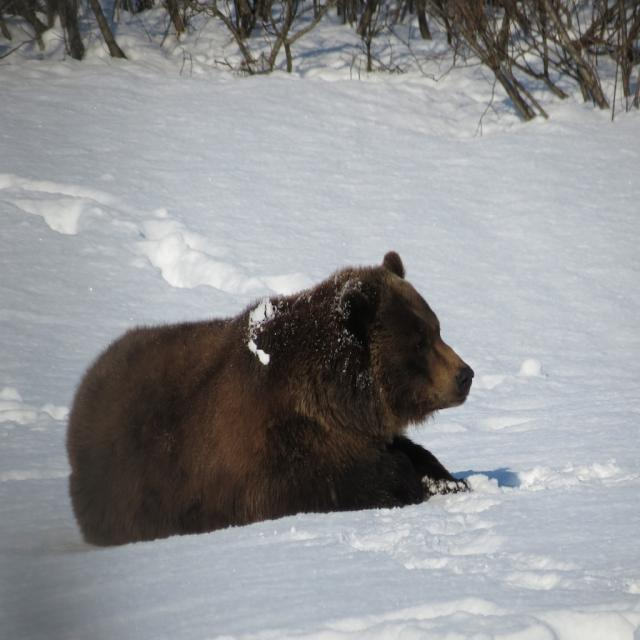Cheetahs: (64, 251, 475, 550)
